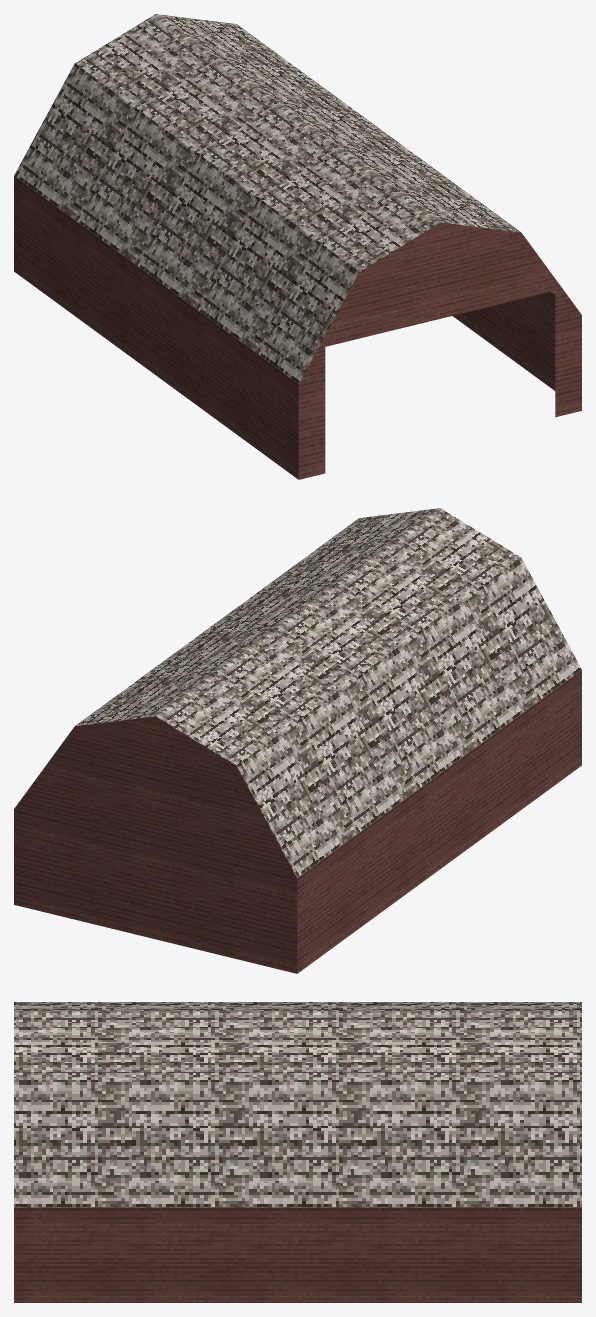
Rendered from lod_combbarn.obj.
3 views of the same model, one above another, from view 1: azimuth 30°, elevation 25°; view 2: azimuth 150°, elevation 25°; view 3: azimuth 270°, elevation 25° (orthographic).
Parts seen in each view (by area): view 1: lod_combbarn; view 2: lod_combbarn; view 3: lod_combbarn.
Part boxes in pixels (<box>): lod_combbarn: <box>14,14,581,479</box>; lod_combbarn: <box>14,508,581,973</box>; lod_combbarn: <box>14,1002,581,1302</box>.
Size of the model in its own units: 13.54 by 10.18 by 23.58.
Materials: 2 (2 with a texture image).
